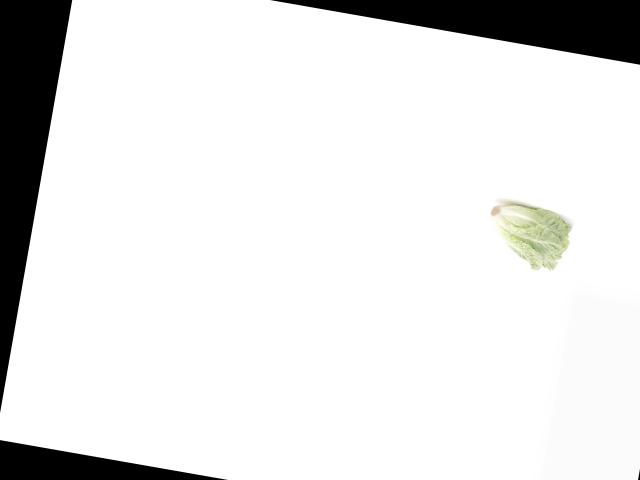lettuce: (478, 197, 574, 275)
